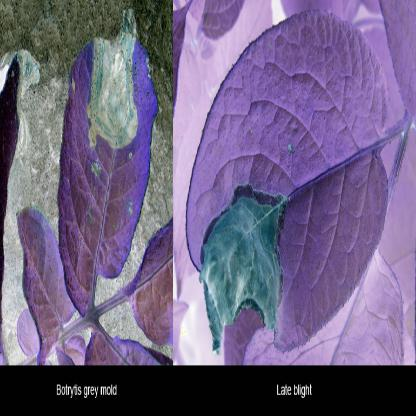potato leaf late blight: (184, 4, 386, 362)
